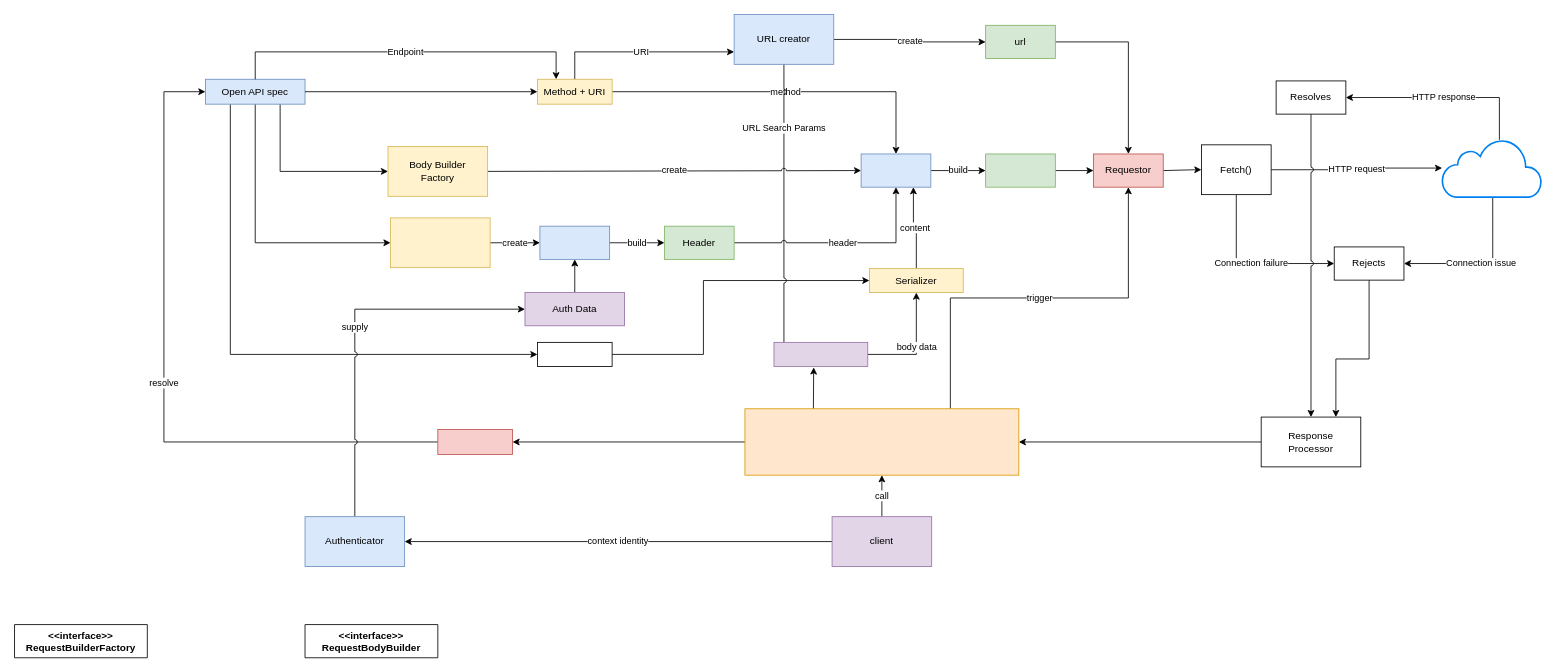
Image size: 1557x672. Some labels were removed from this diagram. Here are the shapes that lost their labels. From the top down, the centre of each, then its label:
At [895,170]: "Body Builder".
At [1020,170]: "Body".
At [440,242]: "Header Builder Factory".
At [574,242]: "Header Builder".
At [574,354]: "Body Schema".
At [820,354]: "Input Data".
At [475,441]: "API resolver".
At [881,441]: "Service Requiring Data".
